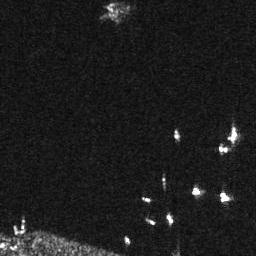ship: (228, 125, 238, 144), (220, 191, 232, 203), (190, 186, 202, 196), (166, 212, 175, 225), (216, 145, 229, 153), (173, 128, 180, 141), (145, 217, 156, 225), (125, 235, 132, 245), (142, 196, 151, 202)
